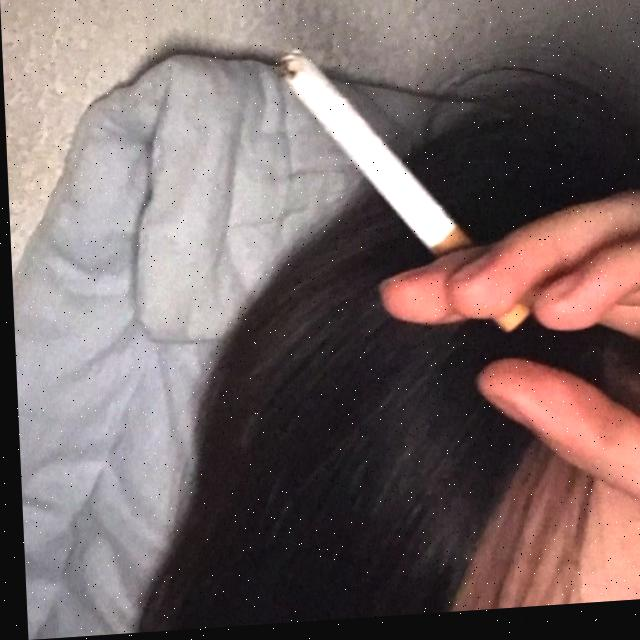cigarette: (275, 41, 528, 352)
